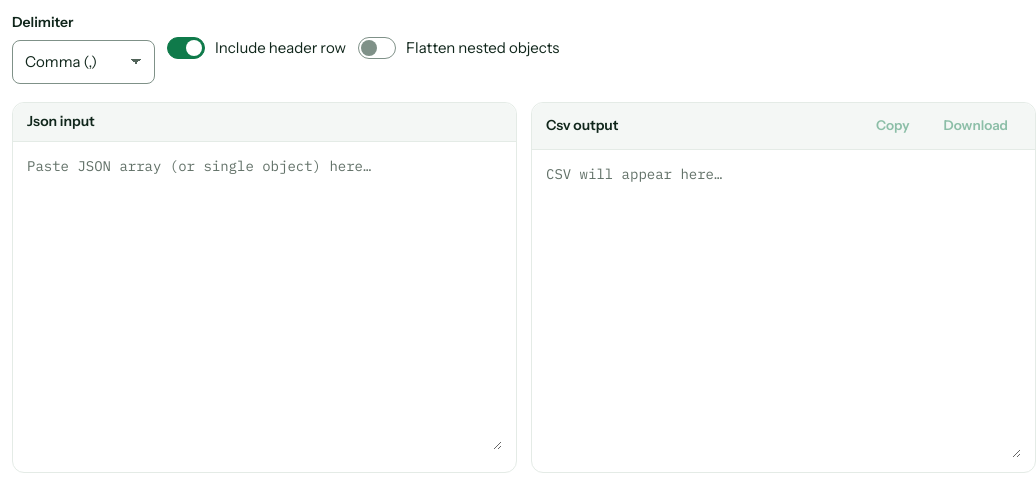
Test case: JsonToCsv › shows an error when input is a JSON number (not array/object)
Type "42" into the text box with placeholder "Paste JSON array (or single object) here…" at (264, 303), box x1=27 y1=156 x2=502 y2=450
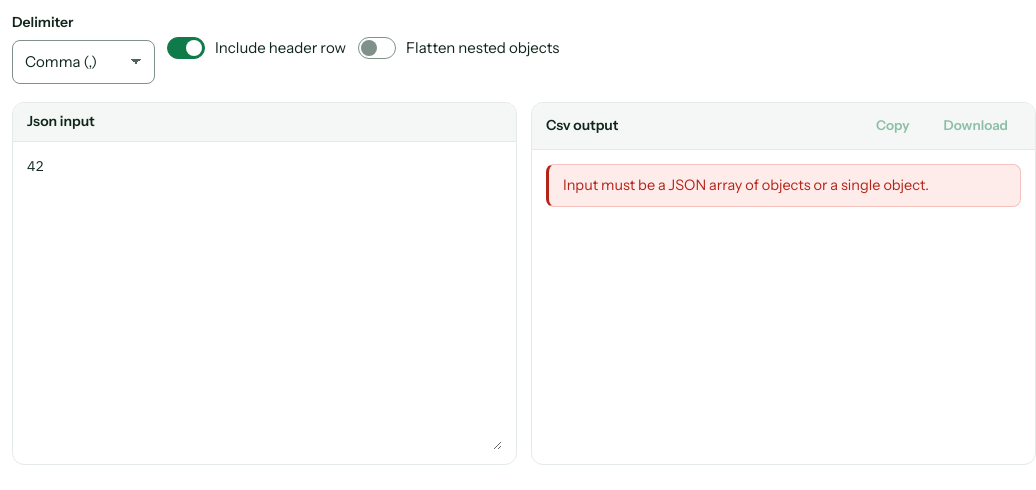
Now the text "Input must be a JSON array of objects or a single object." is shown, box x1=546 y1=164 x2=1021 y2=208
